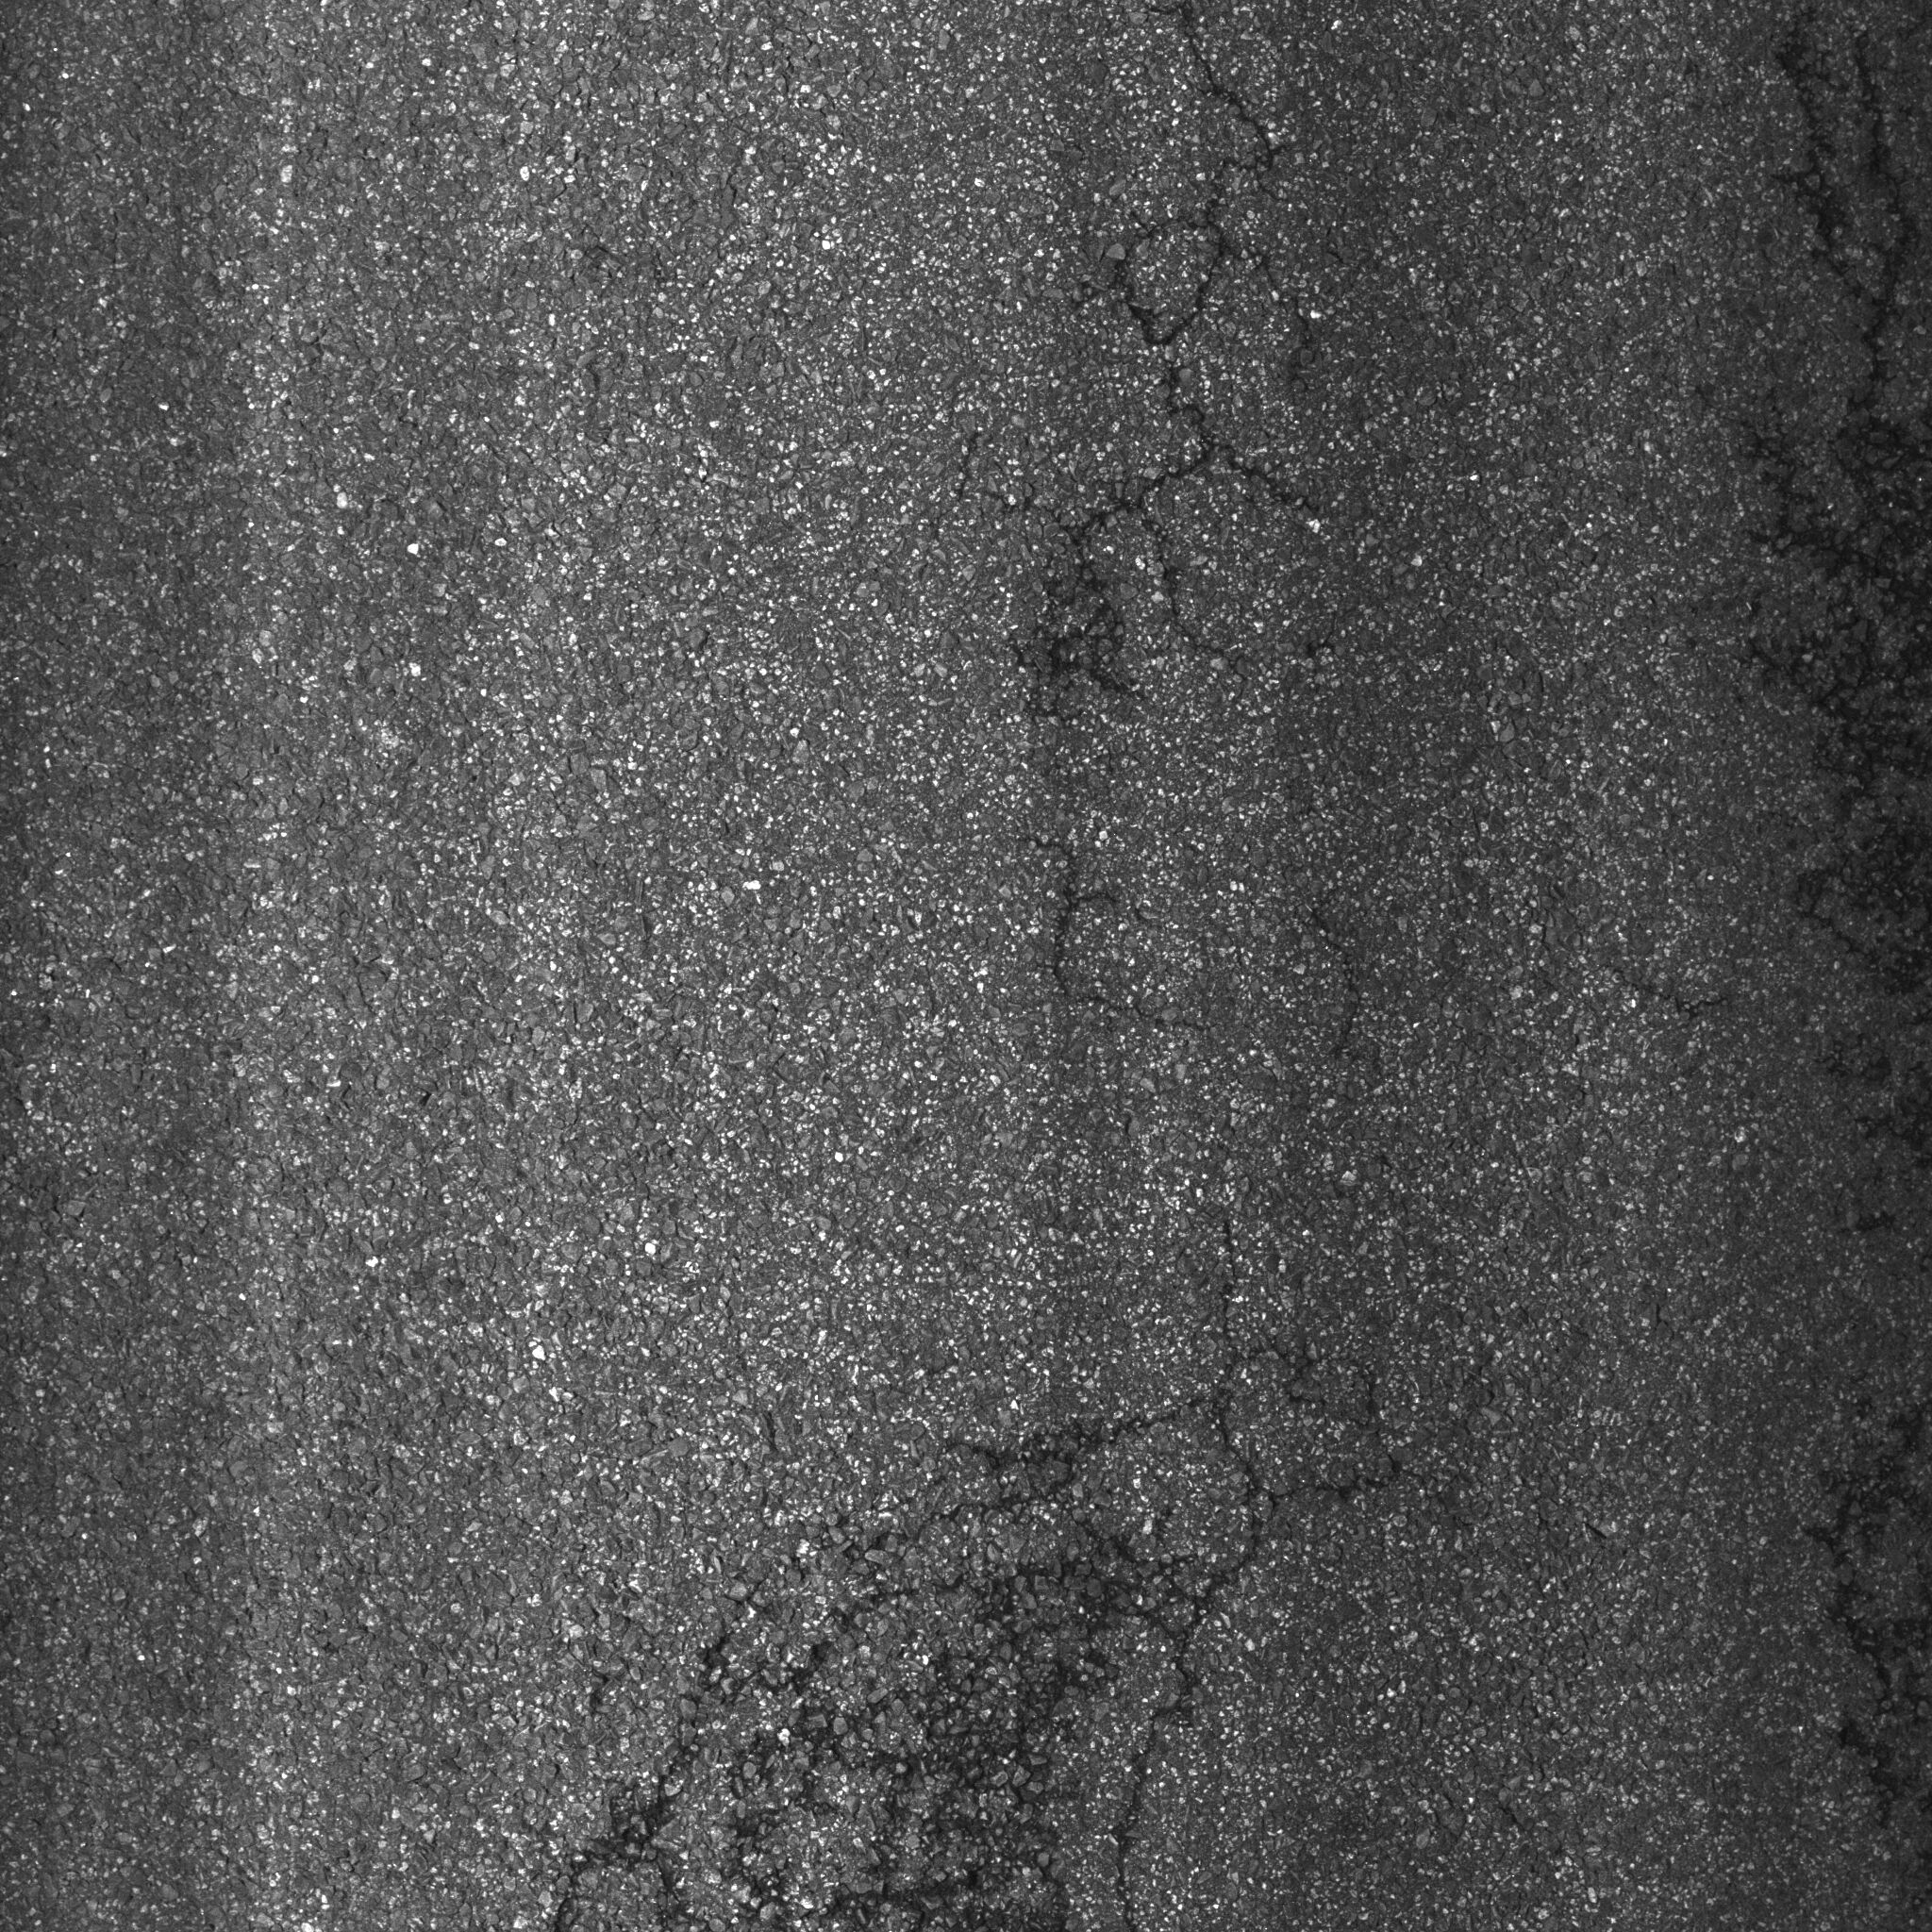alligator: (506, 1214, 1511, 1932), (913, 2, 1543, 1109)
